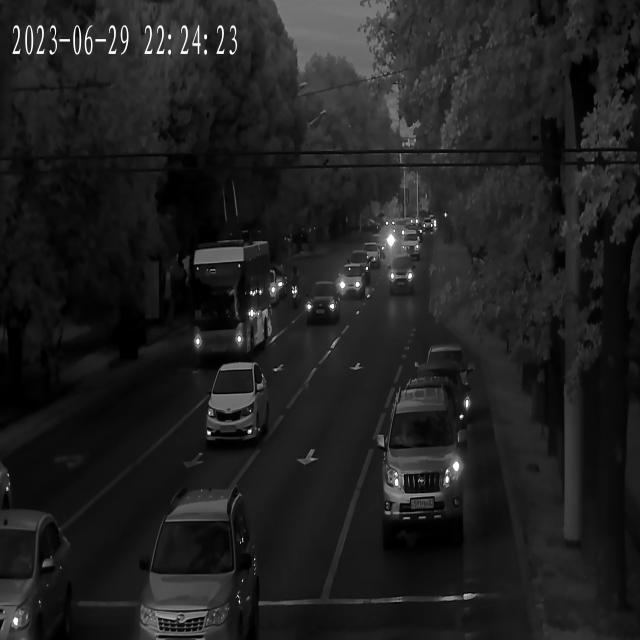Bus: (172, 240, 283, 368)
Car: (138, 499, 259, 640), (375, 392, 465, 532), (2, 509, 85, 638), (205, 364, 274, 452), (397, 374, 470, 437), (415, 345, 471, 398), (308, 284, 345, 324), (333, 266, 369, 300), (384, 262, 414, 299), (342, 250, 376, 281), (354, 245, 381, 269), (401, 235, 421, 252)
